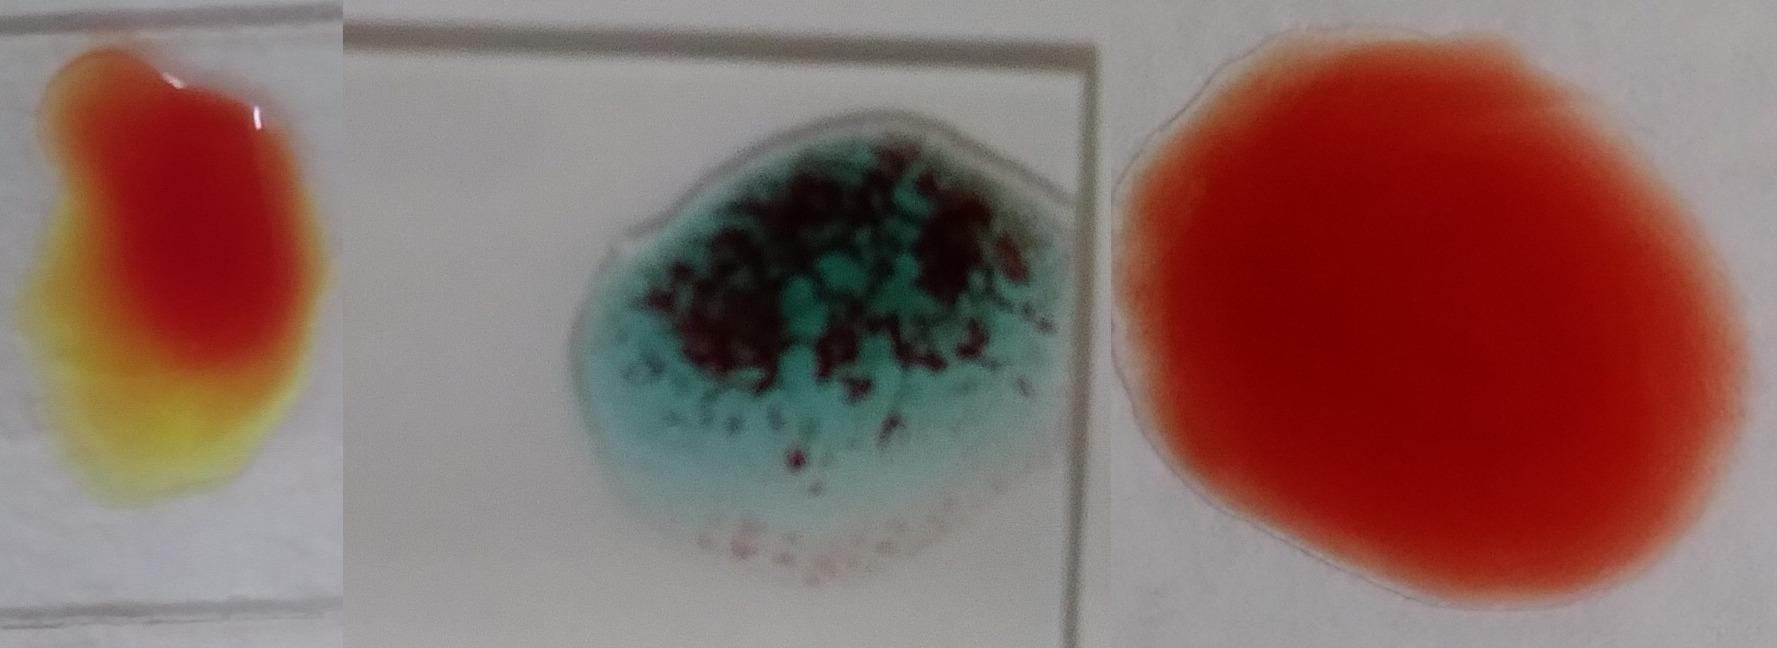A: (587, 105, 1049, 559)
